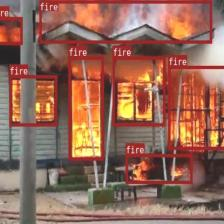fire: (38, 0, 211, 42), (168, 65, 224, 149), (112, 56, 165, 126), (68, 56, 103, 160), (9, 75, 57, 125), (125, 154, 192, 183), (0, 17, 22, 44)
